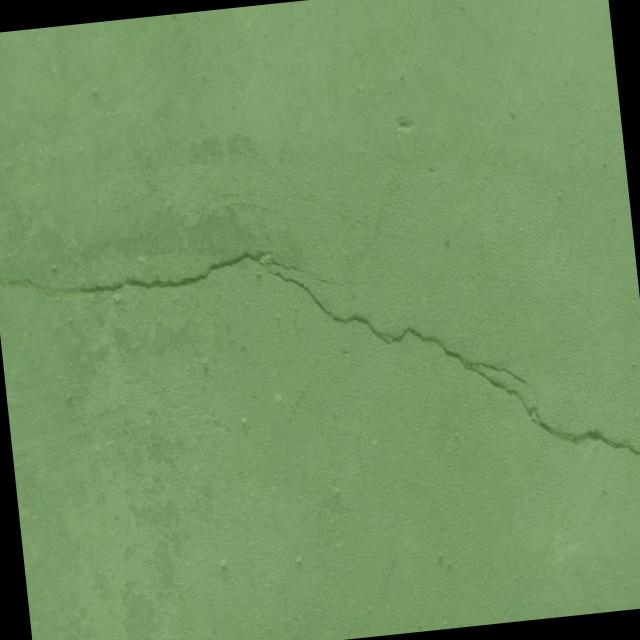crack: (1, 209, 640, 530)
